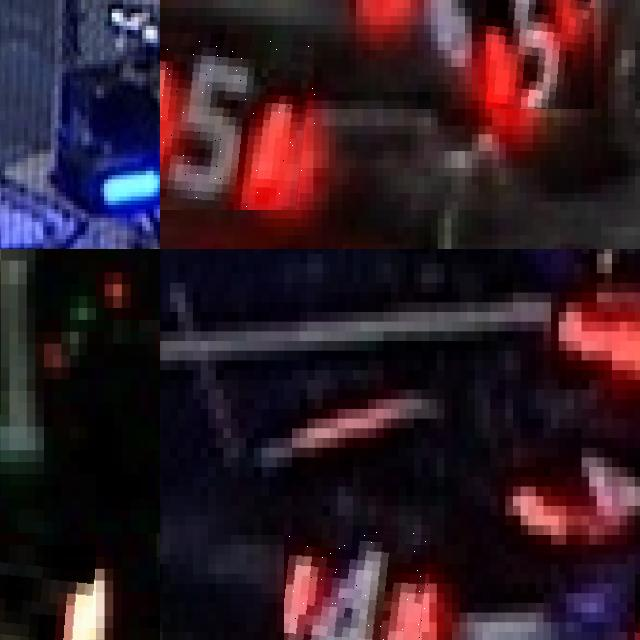R4: (284, 525, 429, 640)
R5: (160, 33, 315, 210), (485, 0, 594, 109)
Rs: (0, 545, 96, 640)
